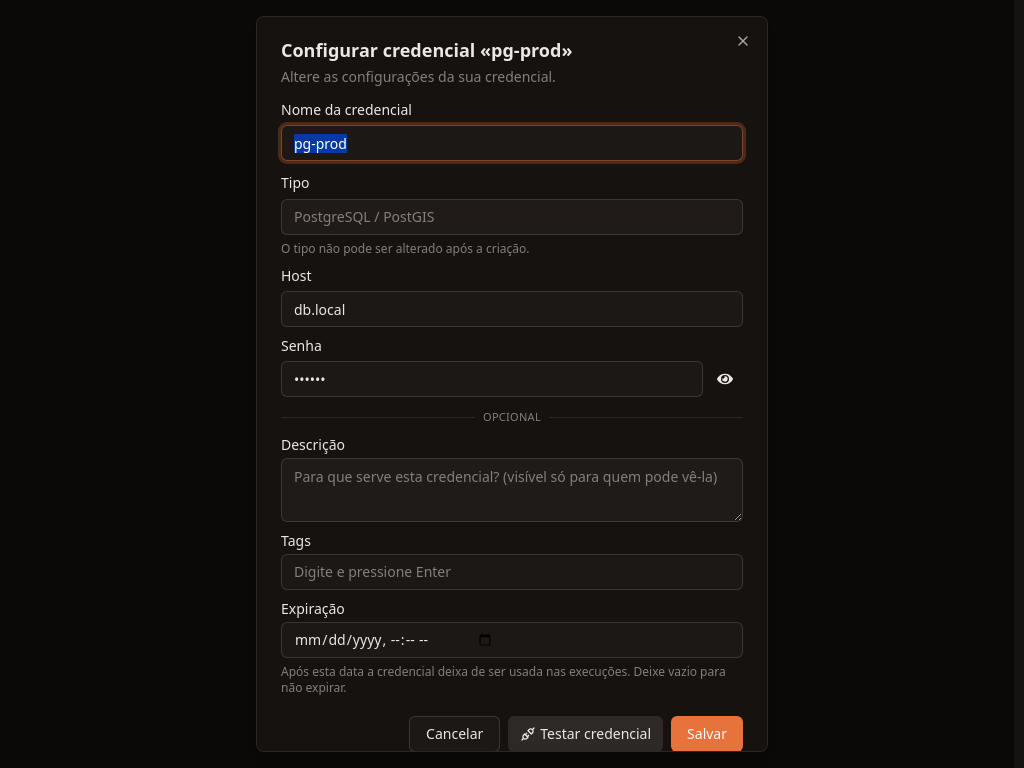
Test: Resultado do teste — nao pode piscar e desaparecer › permanece na tela depois do clique em testar
What coordinates should you click on to do the following:
click the button "Testar credencial"
I would click on:
 (586, 734)
Its box is left=508, top=716, right=663, bottom=752.
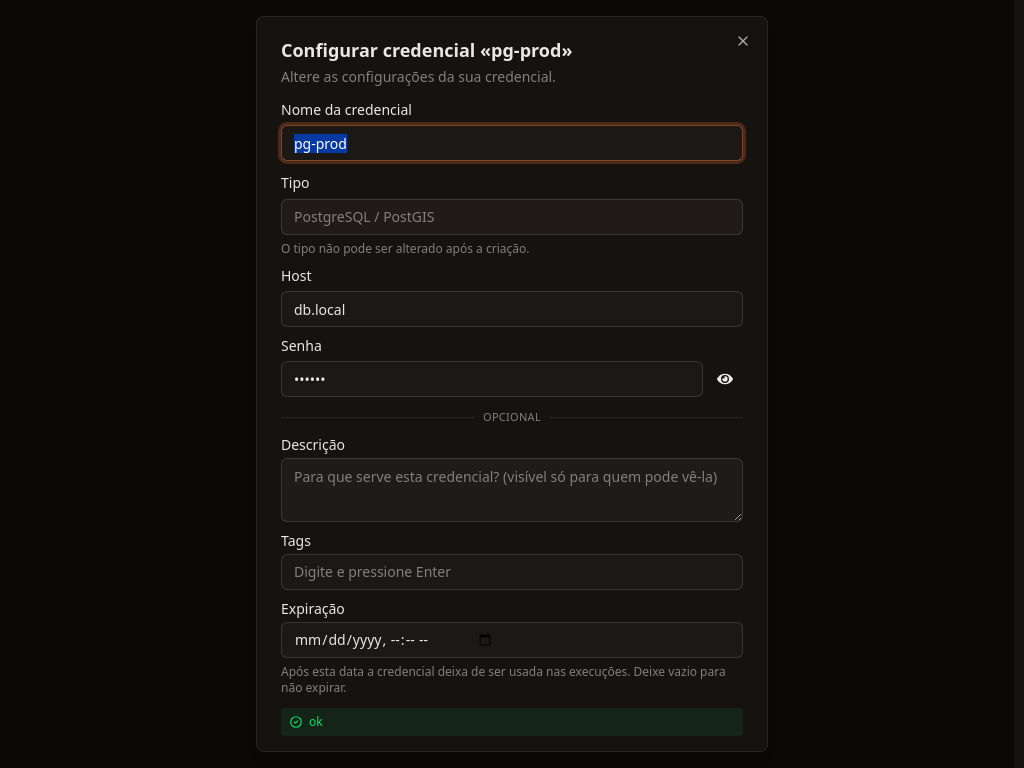
Result: the message reads "ok" at left=309, top=712, right=323, bottom=730
Result: the message "ok" is shown at left=281, top=708, right=743, bottom=736
